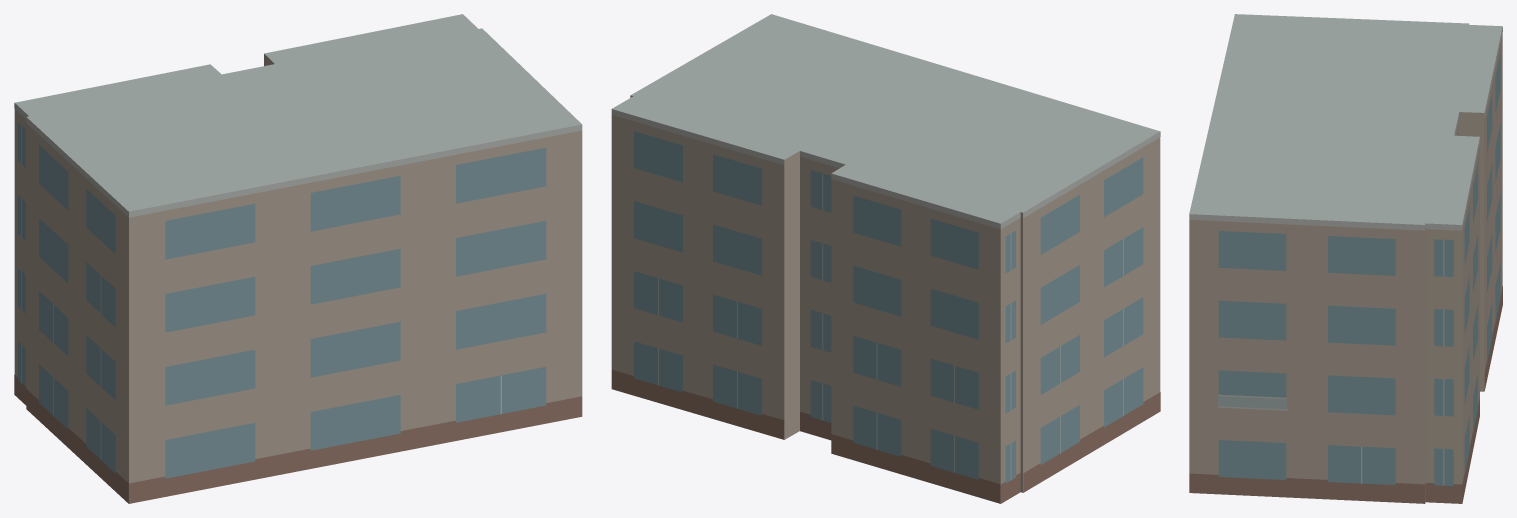
The model's file is survey-upis-32652703.glb.
The picture shows the model from 3 angles, left to right: view 1: azimuth 30°, elevation 25°; view 2: azimuth 150°, elevation 25°; view 3: azimuth 270°, elevation 25°; orthographic projection. The views are drawn at different scales.
Parts seen in each view (by area): view 1: survey-upis-32652703.tmp; view 2: survey-upis-32652703.tmp; view 3: survey-upis-32652703.tmp.
Part boxes in pixels (x1=…): survey-upis-32652703.tmp: x1=14, y1=14, x2=582, y2=503; survey-upis-32652703.tmp: x1=611, y1=14, x2=1160, y2=503; survey-upis-32652703.tmp: x1=1189, y1=14, x2=1502, y2=503.
Bounding box in the file's own units: 19.49 × 12 × 12.24.
